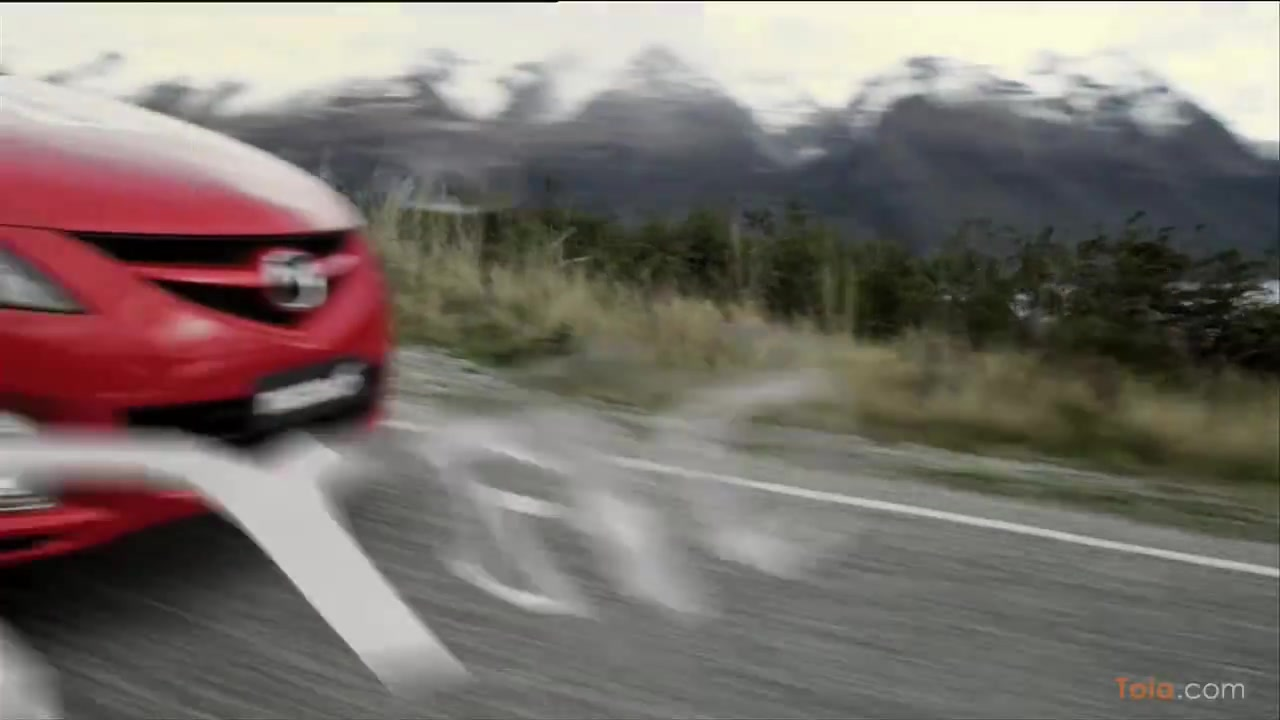car: (1, 52, 404, 572)
